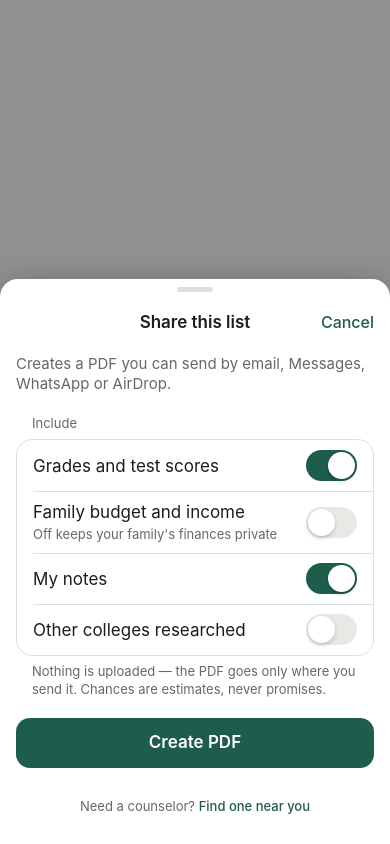
Scenario: ShareListSheet › stays open when the share sheet is cancelled and shows errors in a banner
This screenshot has width=390, height=844.
Click the button "Create PDF".
click(195, 743)  # box [16,718,374,768]
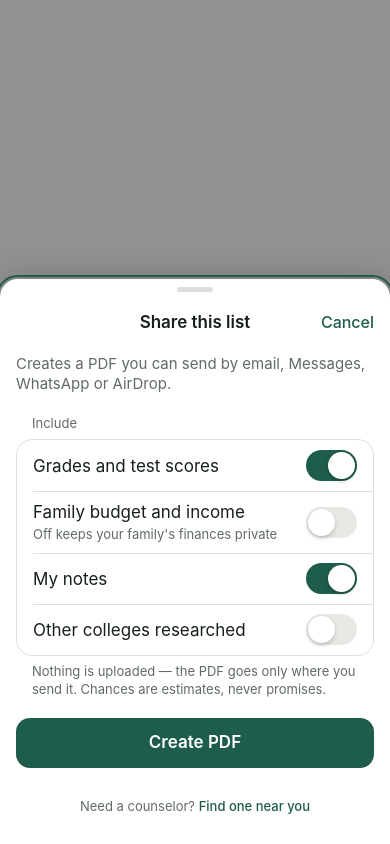
Click the button "Create PDF".
click(195, 743)  # box [16,718,374,768]
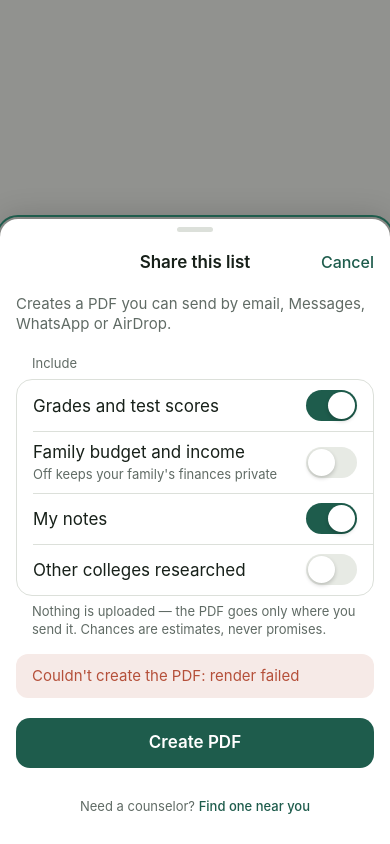
Now the text "Couldn't create the PDF: render failed" is shown, box [16,654,374,698]
